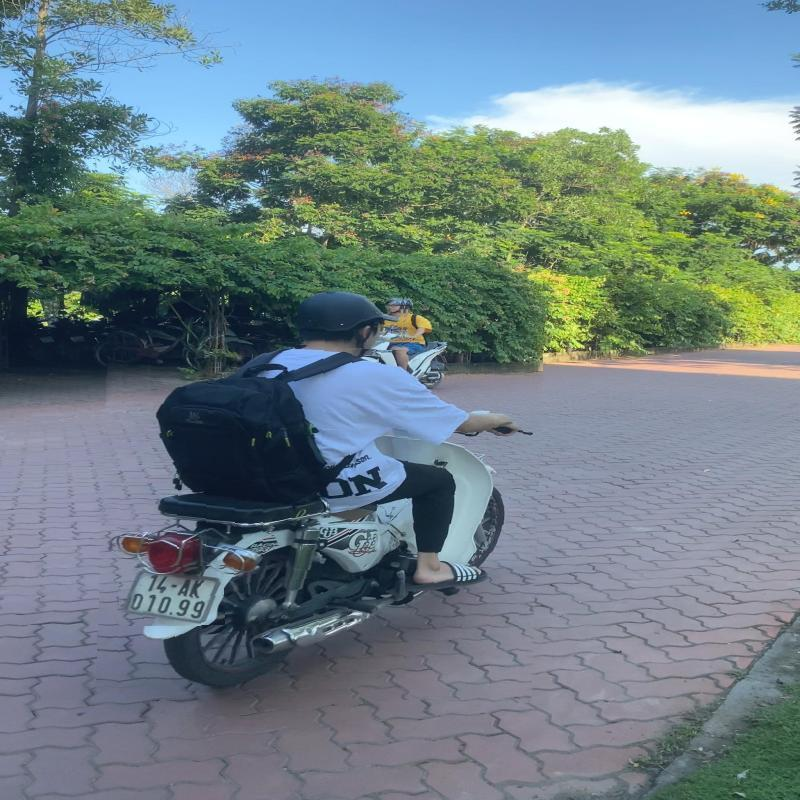helmet: (286, 288, 404, 348)
licenseplate: (119, 566, 225, 626)
motorcyclist: (100, 286, 542, 699)
